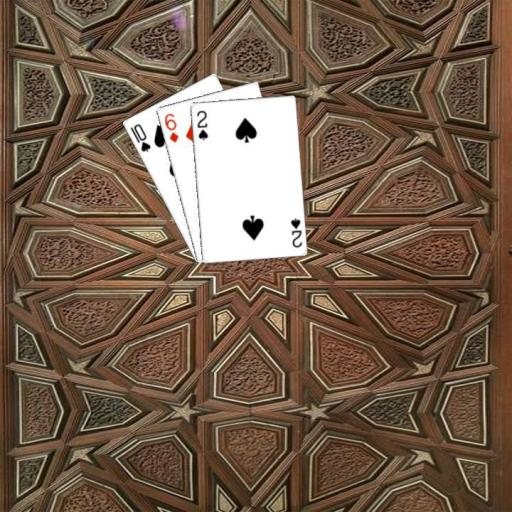10S: (127, 120, 152, 154)
2S: (287, 215, 304, 249), (193, 107, 209, 142)
6D: (161, 110, 180, 144)
